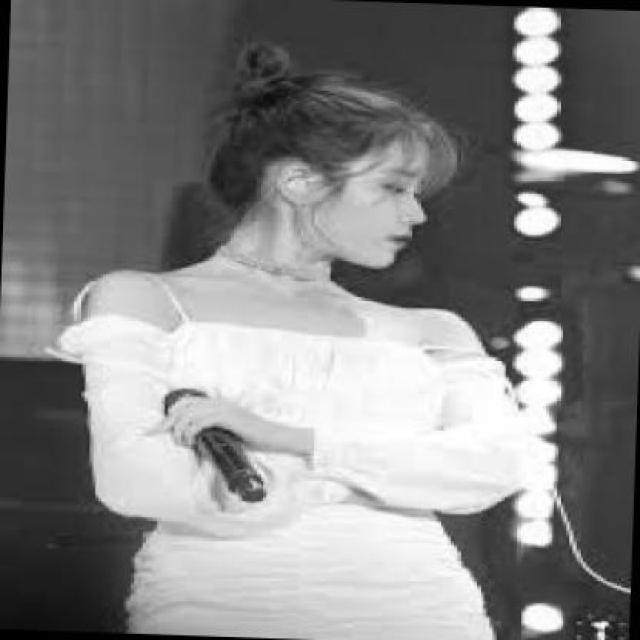earphone: (289, 169, 317, 214)
